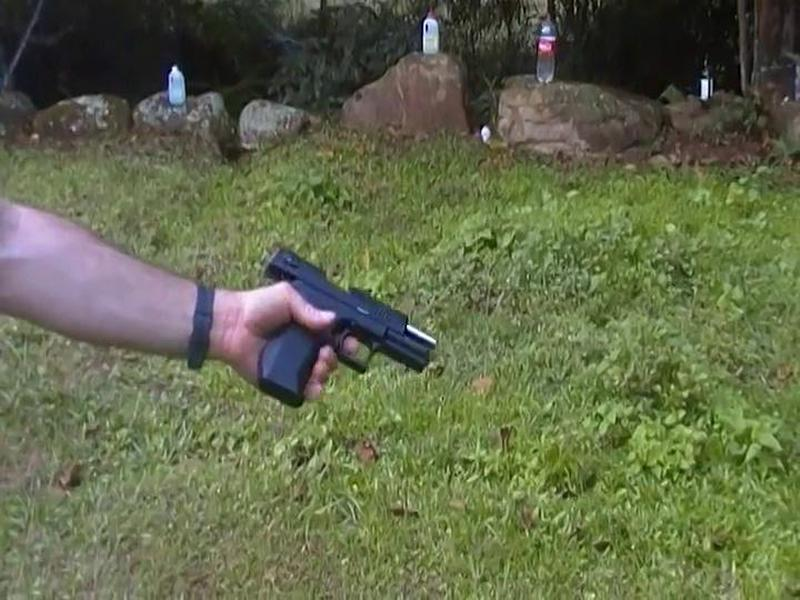Pistola: (229, 224, 471, 421)
